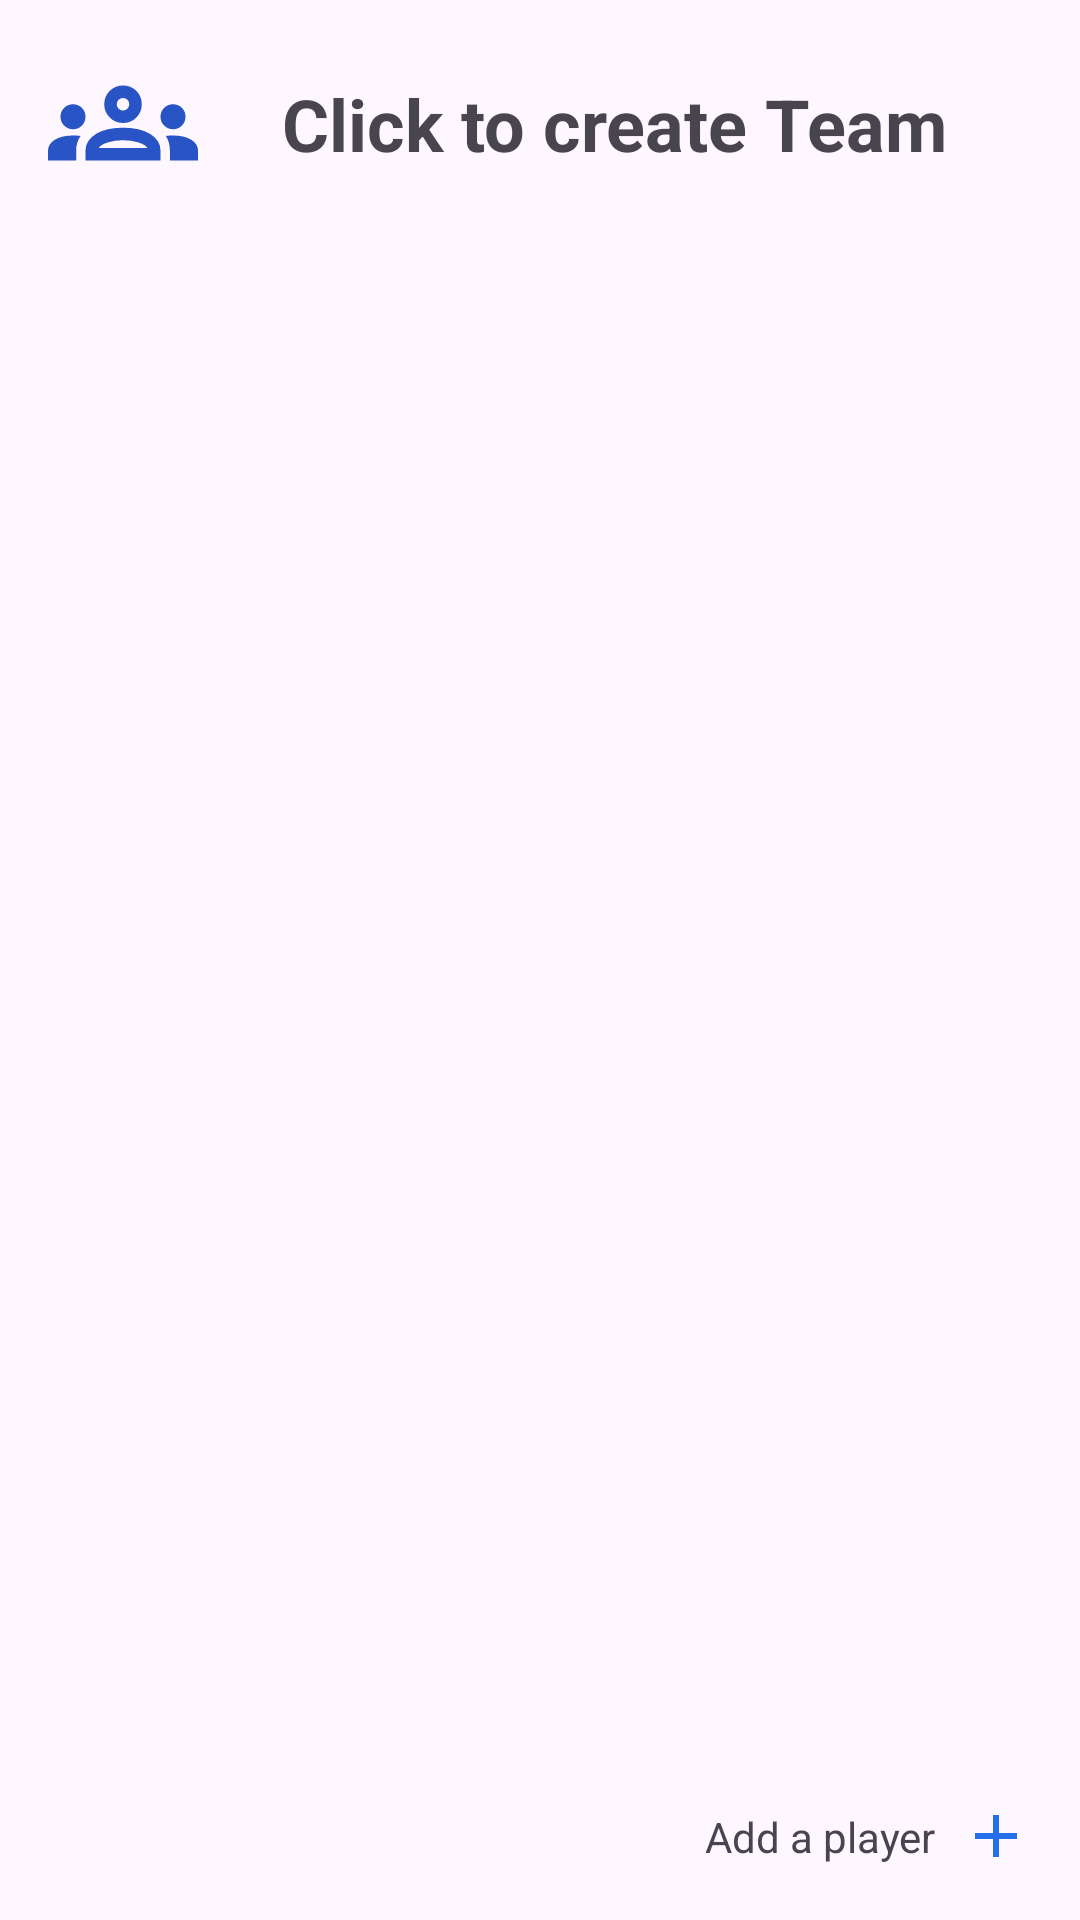

Named icons in this screenshot (1080px×1920px) and their centers, (x,y):
groups: (123,123)
